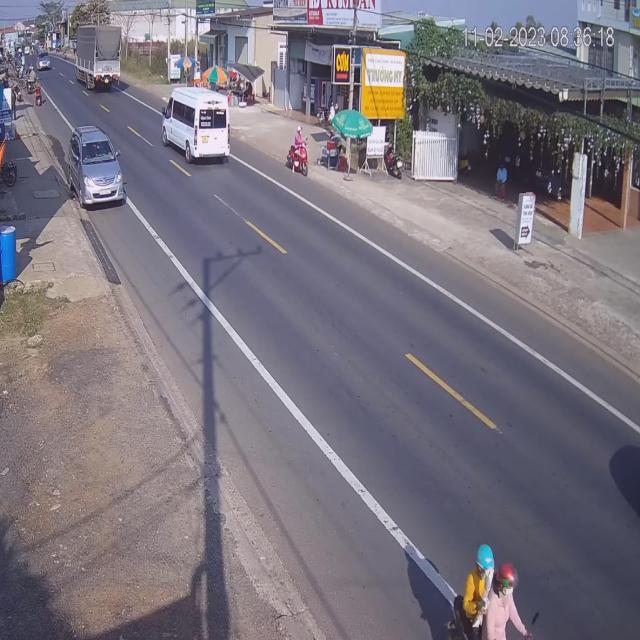bus: (162, 88, 232, 169)
car: (68, 126, 127, 210)
motorbike: (448, 544, 538, 638), (285, 129, 307, 178)
truck: (73, 26, 121, 95)
